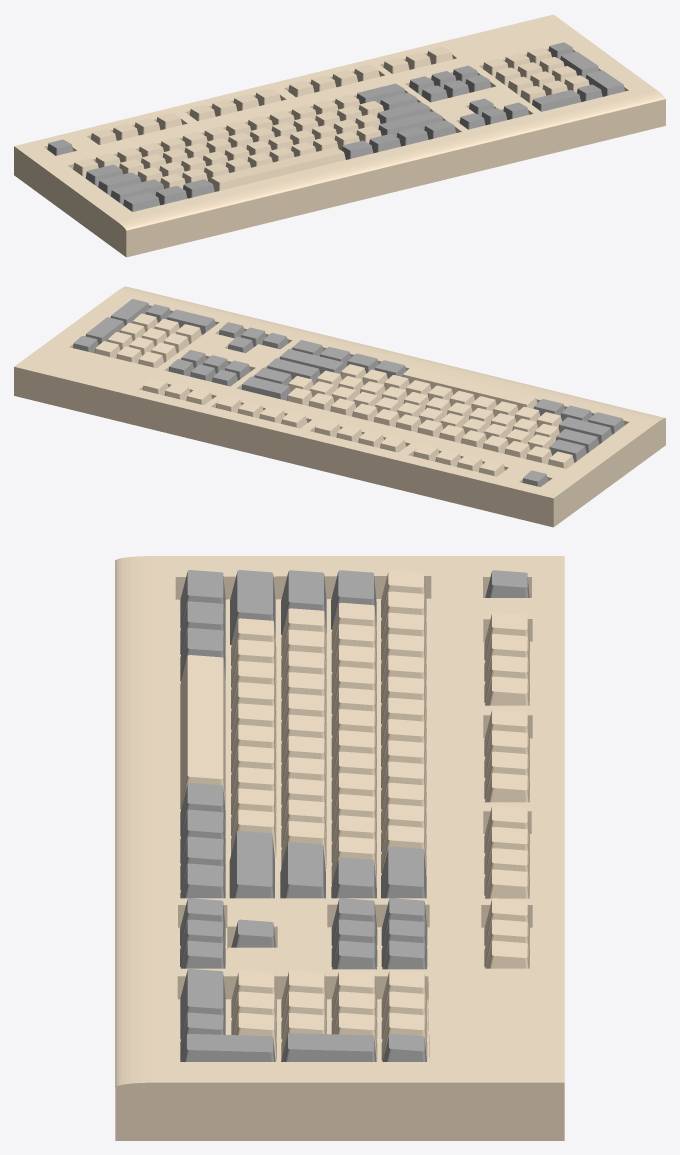
Rendered from membrane keyboard.fbx.
The picture shows the model from 3 angles, top to bottom: view 1: azimuth 30°, elevation 25°; view 2: azimuth 150°, elevation 25°; view 3: azimuth 270°, elevation 25°; orthographic projection. The views are drawn at different scales.
Parts seen in each view (by area): view 1: Frame, Cube.020, Cube.001, Cube.002, Cube.025, Cube.003, Cube.004, Cube.011, Cube.022, Cube.013, Cube.021, Cube.023 (+14 smaller); view 2: Frame, Cube.001, Cube.020, Cube.025, Cube.002, Cube.003, Cube.004, Cube.011, Cube.022, Cube.013, Cube.021, Cube.023 (+11 smaller); view 3: Frame, Cube.001, Cube.020, Cube.002, Cube.025, Cube.003, Cube.004, Cube.022, Cube.011, Cube.013, Cube.023, Cube.021 (+18 smaller).
Boxes of the visible parts, x1,y1,x2,y2 form: Frame: (14,14,665,257); Cube.020: (91,64,379,144); Cube.001: (73,94,359,178); Cube.002: (119,101,383,175); Cube.025: (483,47,589,104); Cube.003: (137,114,380,182); Cube.004: (160,126,381,188); Cube.011: (210,147,345,191); Cube.022: (409,65,491,102); Cube.013: (369,120,455,152); Cube.021: (383,47,452,73); Cube.023: (459,102,528,129); Frame: (14,286,665,527); Cube.001: (287,388,574,468); Cube.020: (216,395,504,476); Cube.025: (94,313,201,368); Cube.002: (288,376,552,450); Cube.003: (316,370,559,443); Cube.004: (340,364,561,427); Cube.011: (402,367,537,410); Cube.022: (168,350,250,386); Cube.013: (292,340,378,373); Cube.021: (143,378,212,405); Cube.023: (219,322,288,349); Frame: (115,556,564,1140); Cube.001: (381,570,426,872); Cube.020: (484,612,529,898); Cube.002: (331,602,376,884); Cube.025: (231,970,427,1060); Cube.003: (281,608,326,868); Cube.004: (231,618,276,857); Cube.022: (331,898,427,969); Cube.011: (180,655,225,809); Cube.013: (180,809,225,898); Cube.023: (180,898,225,968); Cube.021: (484,898,529,968).
Size of the model in its own units: 38.82 by 2.34 by 14.
